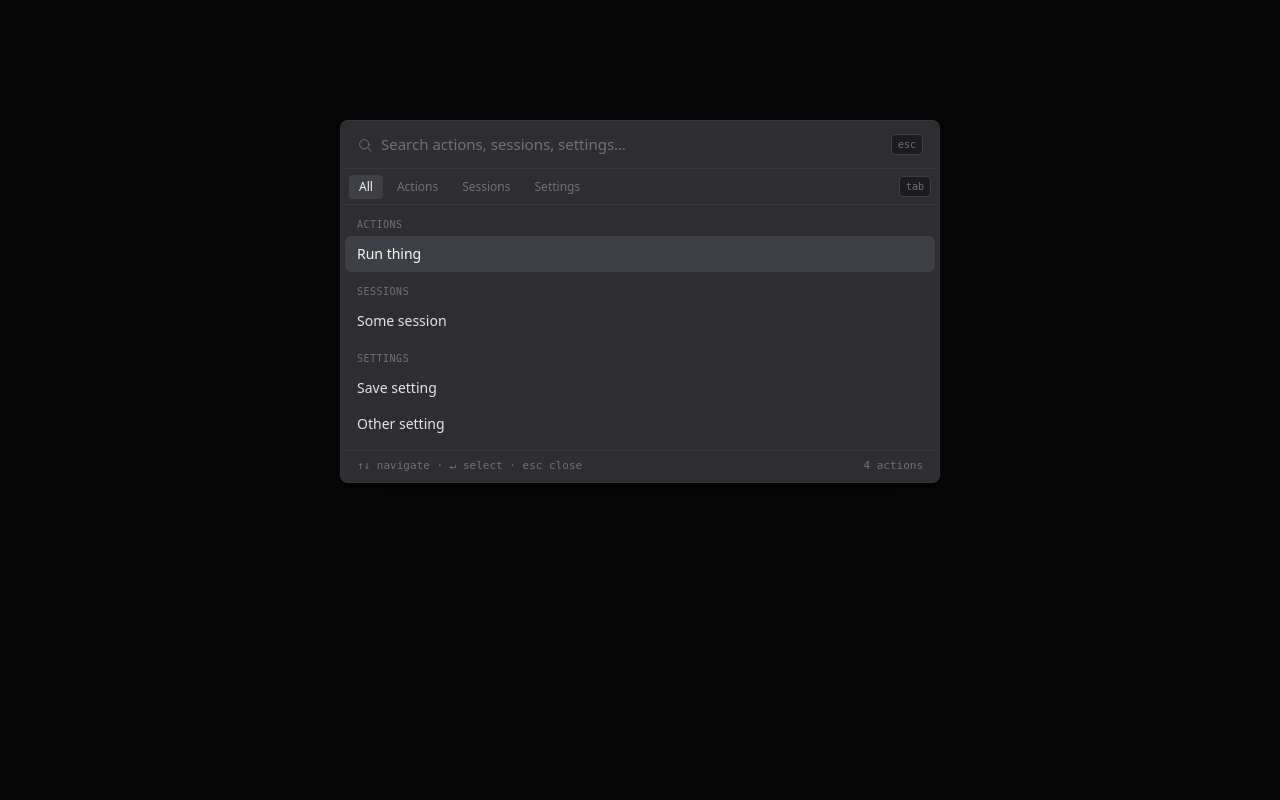
Test: CommandPalette › category tabs › scopes the list and footer count to the clicked tab, with no tab for empty groups
The width and height of the screenshot is (1280, 800).
Click the tab "Settings" at (557, 186), box [524,174,590,198]
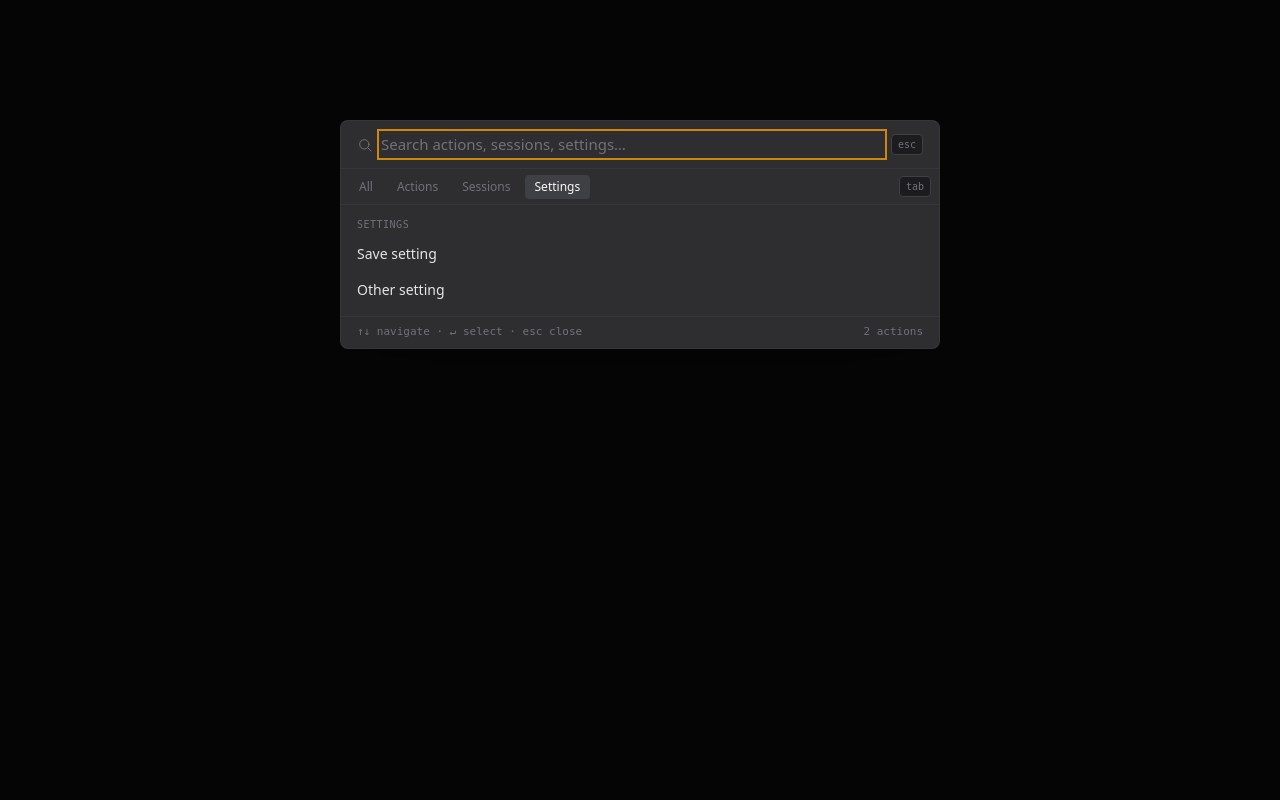
Now the option "Run thing" is gone
Now the option "Some session" is gone
Now the text "2 actions" is shown, box [863,324,923,341]
